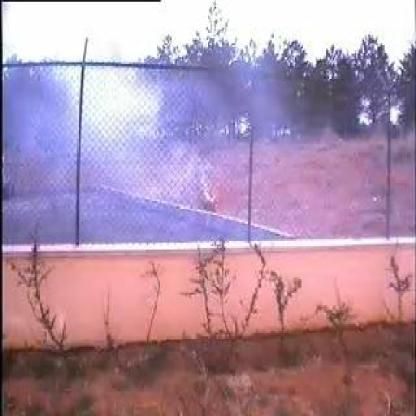-: (39, 64, 235, 238)
